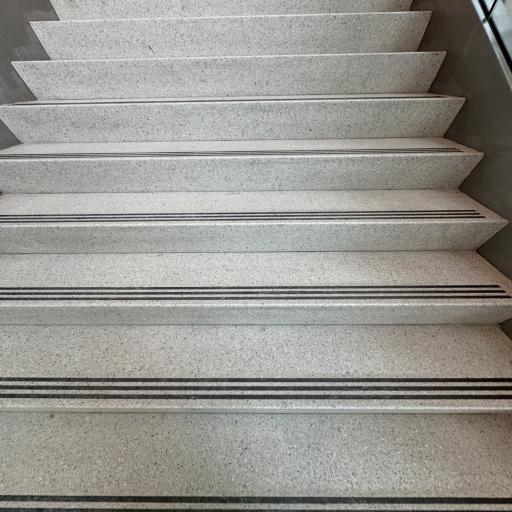Stairs: (0, 0, 512, 512), (0, 325, 512, 414), (0, 190, 506, 253), (0, 137, 482, 193), (0, 93, 464, 143), (14, 52, 445, 100)
